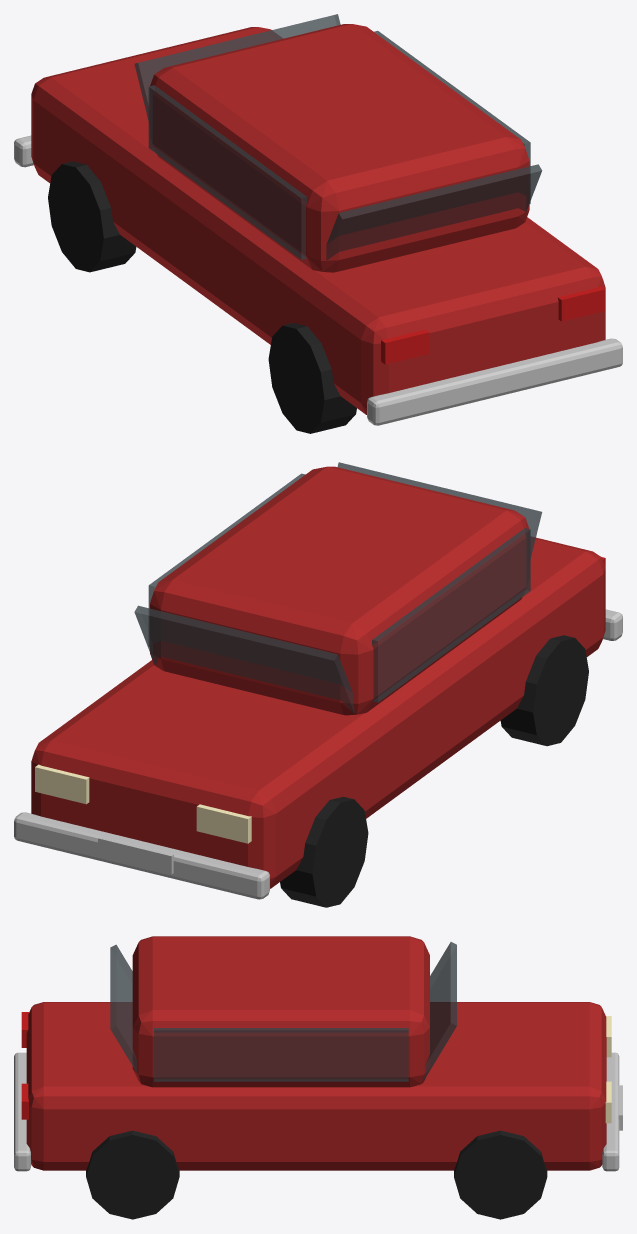
Rendered from oto_k.glb.
The picture shows the model from 3 angles, top to bottom: view 1: azimuth 30°, elevation 25°; view 2: azimuth 150°, elevation 25°; view 3: azimuth 270°, elevation 25°; orthographic projection. The views are drawn at different scales.
Parts seen in each view (by area): view 1: ArkaCam; view 2: ArkaCam; view 3: ArkaCam.
Part boxes in pixels (bbox=[...]): ArkaCam: bbox=[14, 14, 622, 433]; ArkaCam: bbox=[14, 462, 622, 907]; ArkaCam: bbox=[14, 936, 622, 1219].
Bounding box in the file's own units: 0.36 × 0.3 × 0.861.
